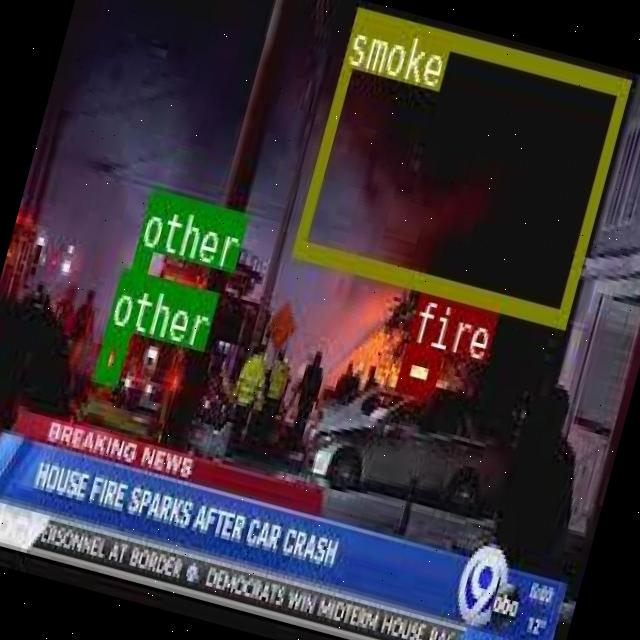fire: (394, 339, 442, 395)
smoke: (290, 6, 630, 324)
